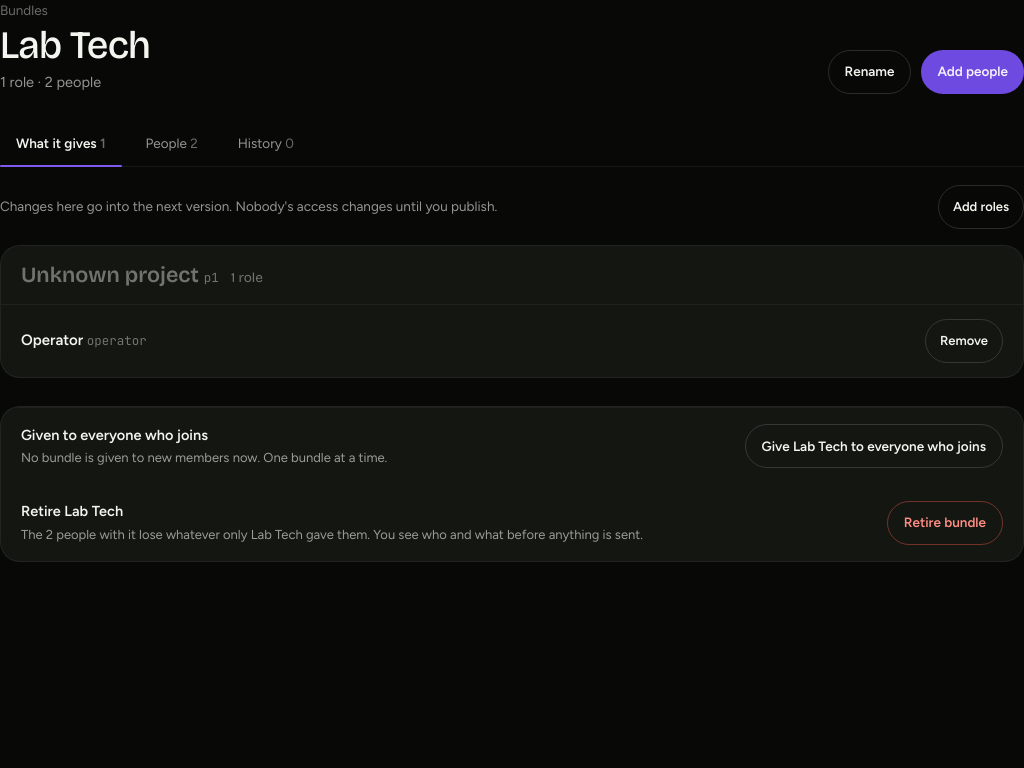
Test: dropping a role from a bundle's working copy › cannot be pressed a second time once it has landed
Click the button "Remove" at point(964, 341), box [925,319,1003,363]
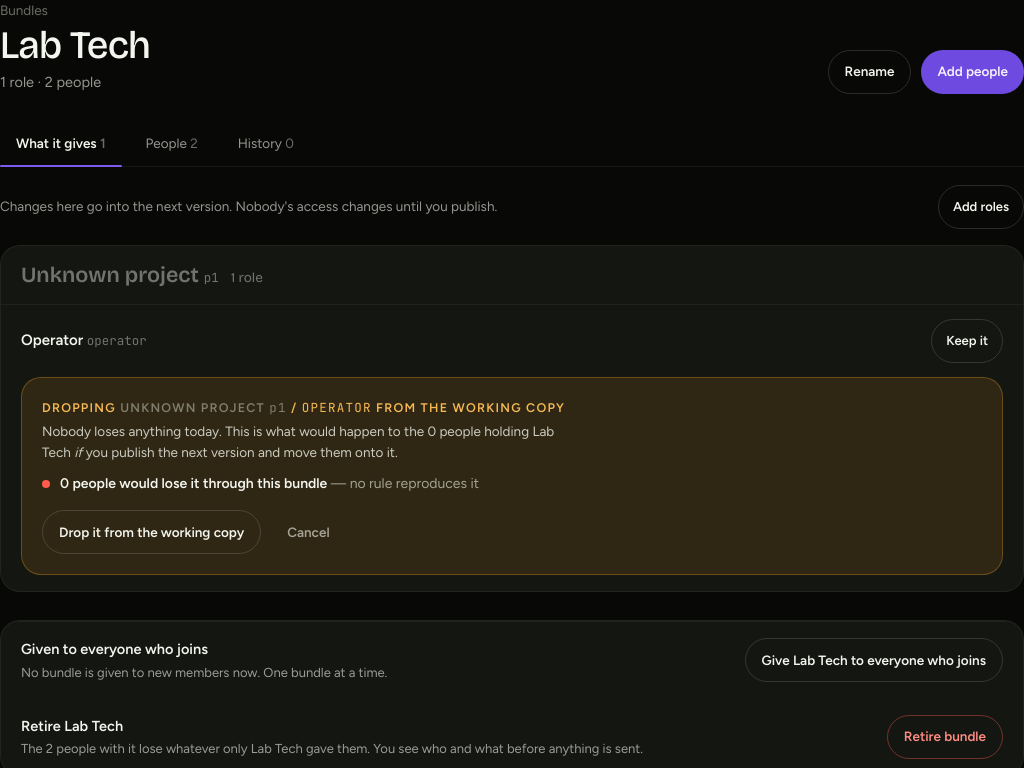
Click the button "Drop it from the working copy" at point(152, 532), box [42,510,261,554]
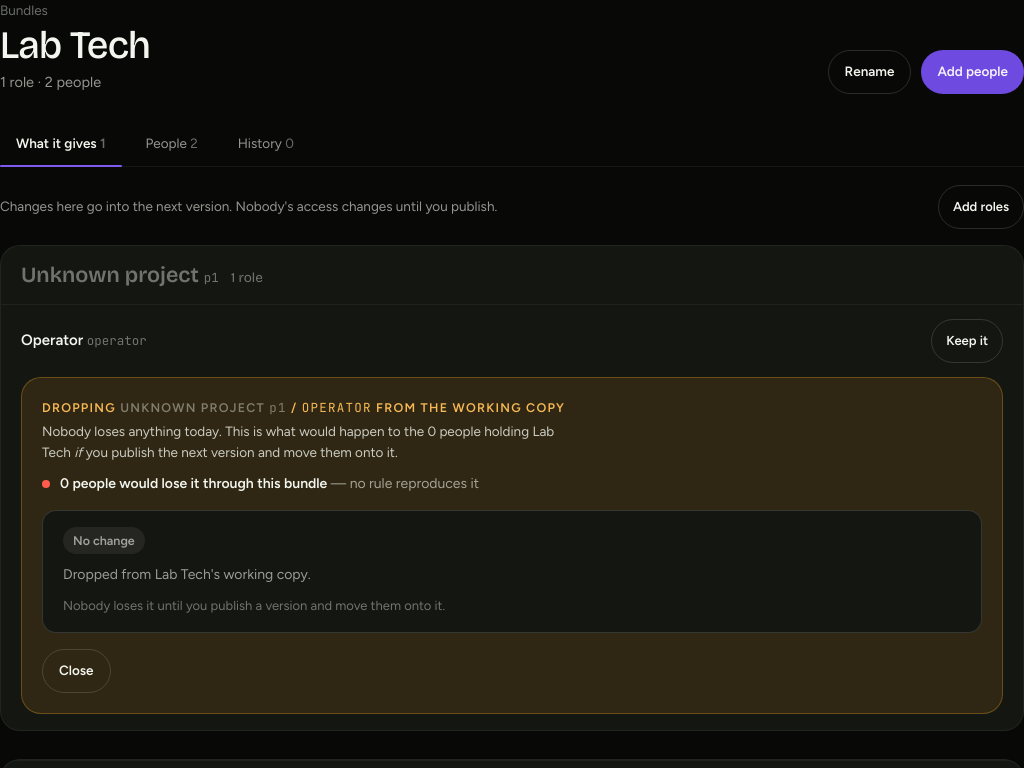
Expected: the button "Close" is shown, [42,649,110,693]
Expected: the button "Drop it from the working copy" is gone
